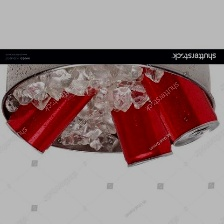can: (4, 80, 98, 156), (138, 67, 219, 146), (110, 88, 177, 170)
